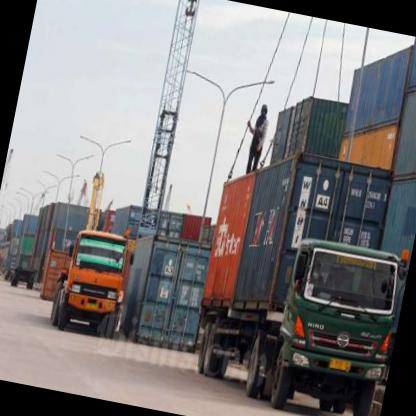truck: (265, 232, 410, 416), (59, 224, 135, 340)
